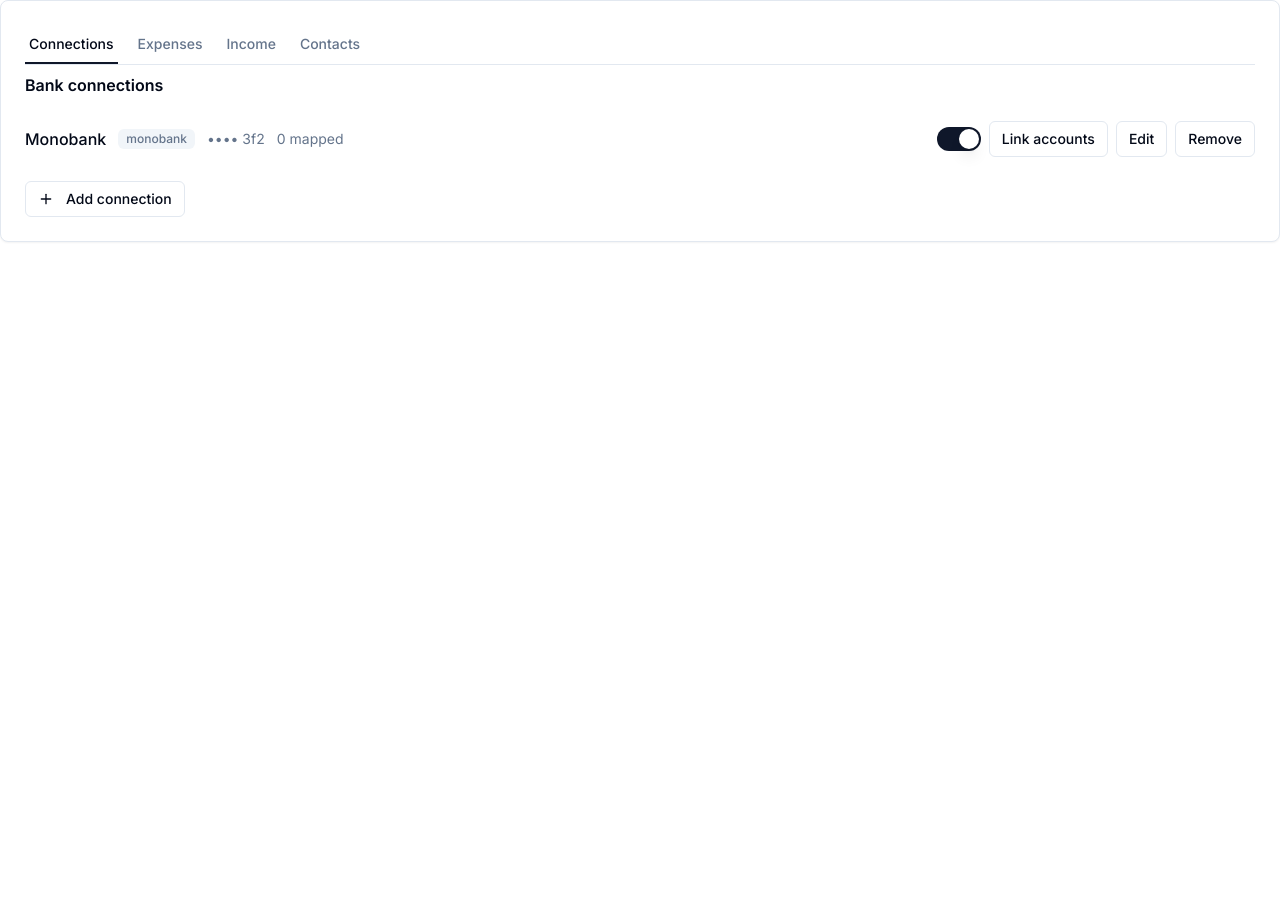
Test: ProfileBankingPane › Add connection opens the dialog
Check: the text "Monobank" is shown, box [25,127,106,151]
Click the button "Add connection": coordinates (105, 199) [25,181,185,217]
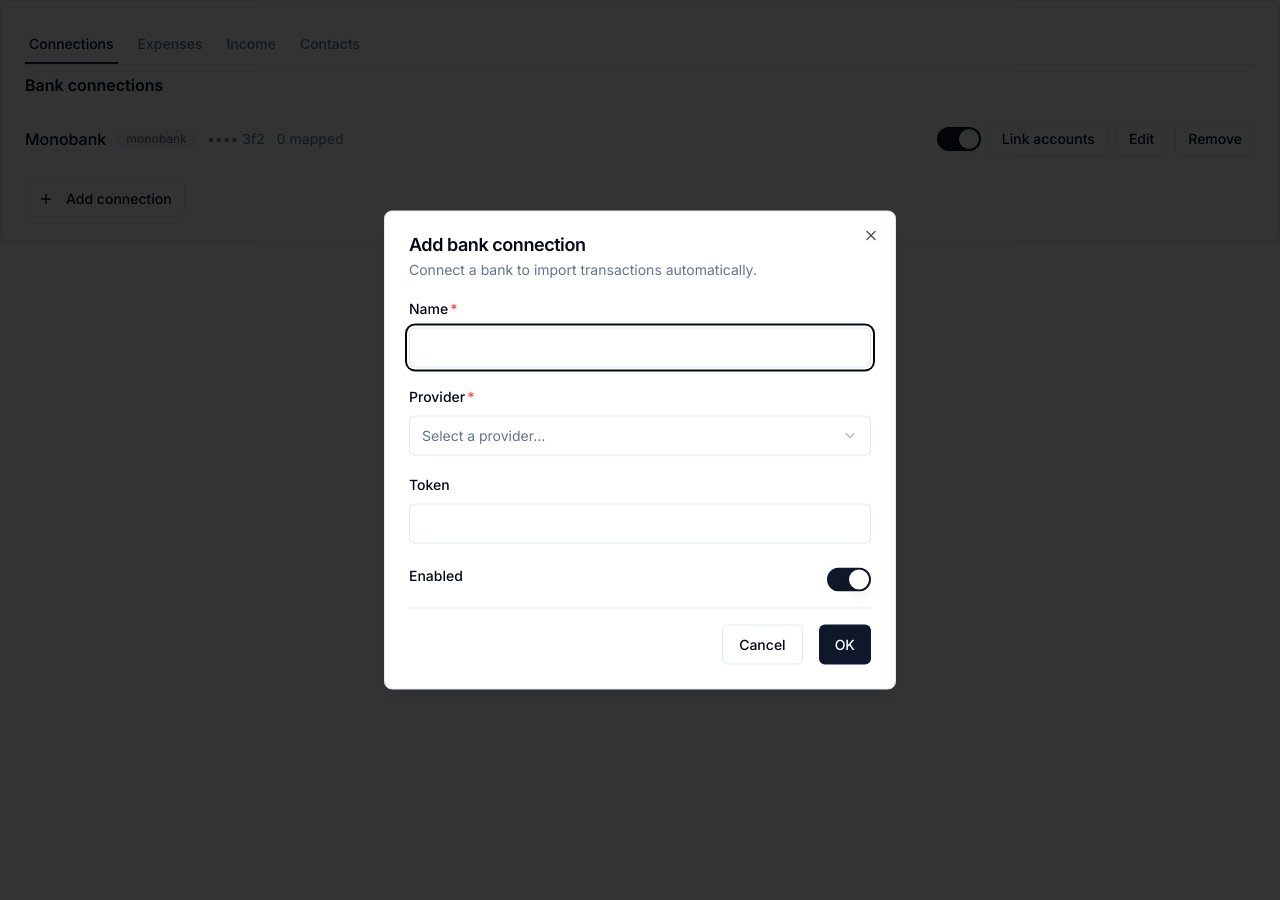
Check: the dialog is shown, box [384,210,896,690]
